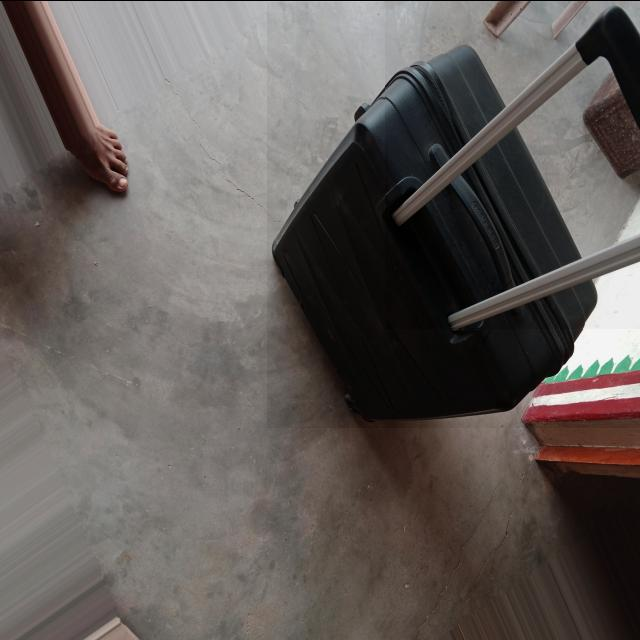Bag: (269, 0, 640, 415)
Handle: (390, 9, 640, 347)
